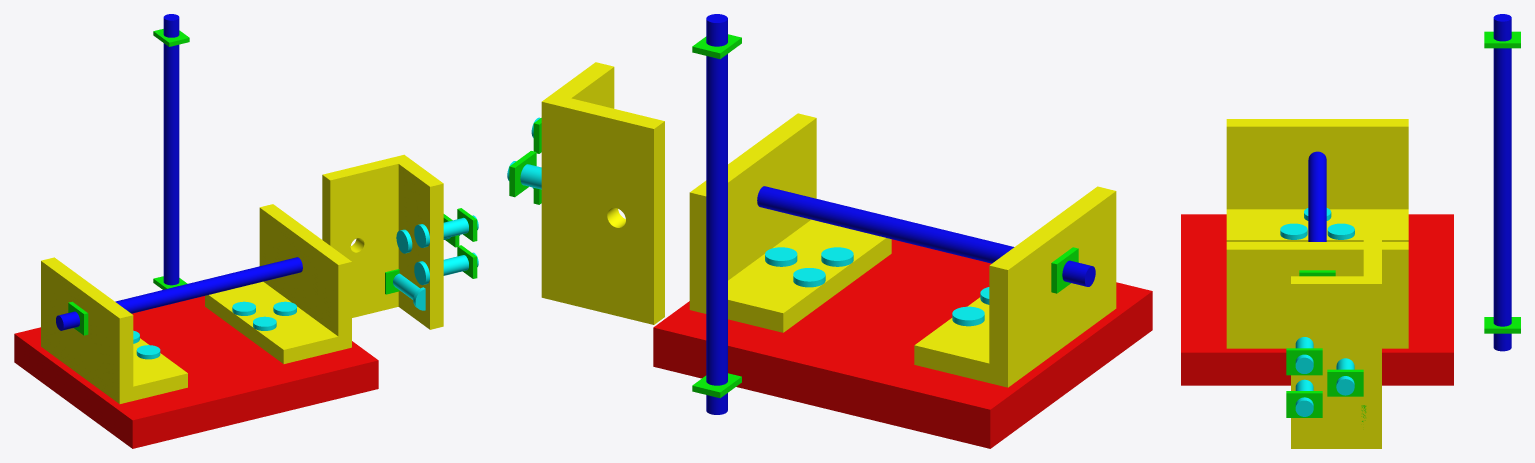
The picture shows the model from 3 angles, left to right: view 1: azimuth 30°, elevation 25°; view 2: azimuth 150°, elevation 25°; view 3: azimuth 270°, elevation 25°; orthographic projection. The views are drawn at different scales.
Visible parts, largest first — view 1: L-BRACKET (×2), PLATE, L-BRACKET001, ROD (×2), BOLT001, BOLT002, BOLT; view 2: L-BRACKET (×2), PLATE, L-BRACKET001, ROD (×2), NUT006 (×2), NUT, NUT007; view 3: L-BRACKET (×2), L-BRACKET001, PLATE, ROD (×2), NUT, NUT001, NUT002, BOLT001, BOLT, NUT006, BOLT002, NUT007 (+2 smaller).
Boxes of the visible parts, x1,y1,x2,y2 form: L-BRACKET (×2): (205, 154, 443, 363); PLATE: (14, 296, 378, 448); L-BRACKET001: (41, 257, 187, 403); ROD (×2): (56, 14, 302, 330); BOLT001: (414, 215, 478, 247); BOLT002: (414, 252, 478, 285); BOLT: (393, 273, 425, 310); L-BRACKET (×2): (541, 62, 891, 332); PLATE: (653, 239, 1152, 448); L-BRACKET001: (914, 186, 1116, 387); ROD (×2): (706, 14, 1095, 414); NUT006 (×2): (692, 34, 1078, 293); NUT: (509, 151, 536, 197); NUT007: (692, 373, 741, 398); L-BRACKET (×2): (1226, 238, 1408, 448); L-BRACKET001: (1226, 119, 1408, 241); PLATE: (1181, 214, 1453, 385); ROD (×2): (1308, 14, 1511, 351); NUT: (1327, 369, 1363, 396); NUT001: (1286, 348, 1322, 375); NUT002: (1286, 391, 1322, 417); BOLT001: (1295, 337, 1313, 373); BOLT: (1336, 358, 1354, 395); NUT006: (1484, 31, 1520, 48); BOLT002: (1295, 379, 1313, 416); NUT007: (1484, 317, 1520, 333).
Size of the model in its own units: 0.2995 by 0.207 by 0.1868.
